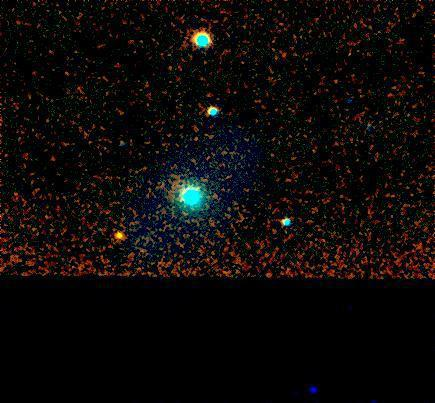star: (104, 223, 134, 253)
